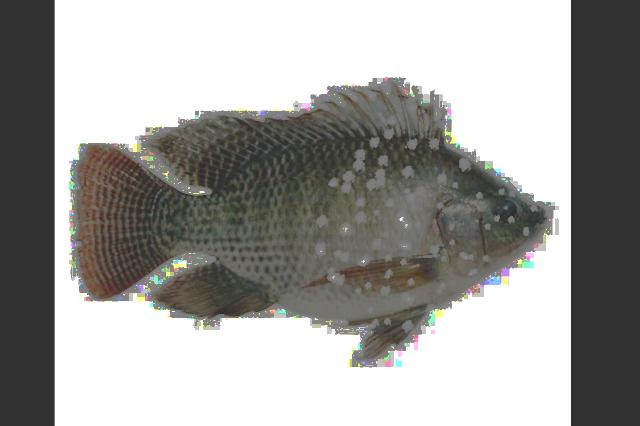Ichthyophthirius -White Spots-: (76, 82, 548, 360), (76, 82, 548, 360), (76, 82, 548, 360)
